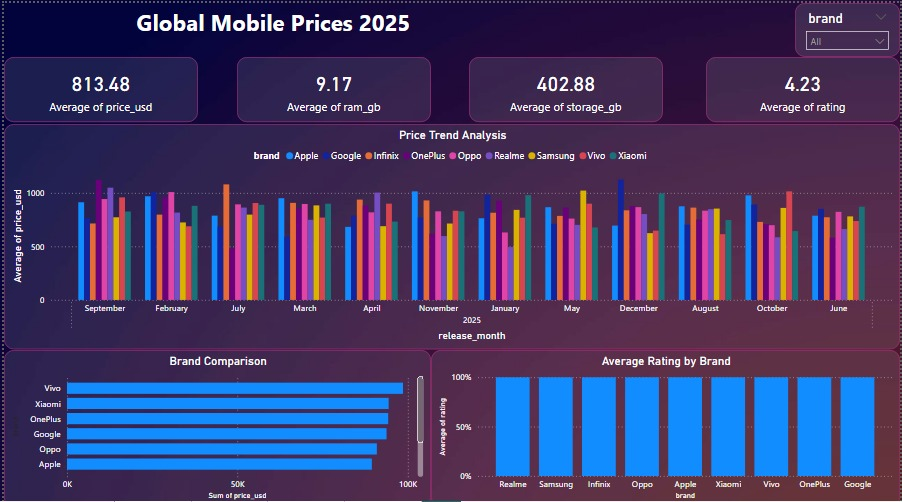

The dashboard page shown, as its layout file describes it:
{"tool":"powerbi","page":{"name":"Page 4","canvas":[1280,720],"ordinal":3},"visuals":[{"type":"card","fields":{"Values":["Avg(Global_Mobile_Prices_2025_Extended.price_usd)"]},"box":[0,76.7,276.7,93.3],"z":0},{"type":"card","fields":{"Values":["Avg(Global_Mobile_Prices_2025_Extended.ram_gb)"]},"box":[333.3,76.7,276.7,93.3],"z":1000},{"type":"card","fields":{"Values":["Avg(Global_Mobile_Prices_2025_Extended.storage_gb)"]},"box":[665,76.7,276.7,93.3],"z":2000},{"type":"card","fields":{"Values":["Avg(Global_Mobile_Prices_2025_Extended.rating)"]},"box":[1003.3,76.7,276.7,93.3],"z":3000},{"type":"textbox","title":"Global Mobile Prices 2025","box":[0,0,770,61.7],"z":4000},{"type":"slicer","fields":{"Values":["Global_Mobile_Prices_2025_Extended.brand"]},"box":[1130,0,150,76.7],"z":5000},{"type":"lineClusteredColumnComboChart","title":"Price Trend Analysis","fields":{"Category":["Global_Mobile_Prices_2025_Extended.year","Global_Mobile_Prices_2025_Extended.release_month"],"Y":["Avg(Global_Mobile_Prices_2025_Extended.price_usd)"],"Series":["Global_Mobile_Prices_2025_Extended.brand"]},"box":[0,173.3,1280,321.7],"z":6000},{"type":"barChart","title":"Brand Comparison","fields":{"Category":["Global_Mobile_Prices_2025_Extended.brand"],"Y":["Sum(Global_Mobile_Prices_2025_Extended.price_usd)"]},"box":[0,495,610,225],"z":7000},{"type":"hundredPercentStackedColumnChart","title":"Average Rating by Brand","fields":{"Category":["Global_Mobile_Prices_2025_Extended.brand"],"Y":["Avg(Global_Mobile_Prices_2025_Extended.rating)"]},"box":[610,495,670,225],"z":8000}]}

Visuals, with their boxes in screenshot pixels (x1, y1, x2, y2), scaled from the page's 1280x720 canvas onto the 902x502 screenshot:
card - Avg(Global_Mobile_Prices_2025_Extended.price_usd): [left=0, top=53, right=195, bottom=119]
card - Avg(Global_Mobile_Prices_2025_Extended.ram_gb): [left=235, top=53, right=430, bottom=119]
card - Avg(Global_Mobile_Prices_2025_Extended.storage_gb): [left=469, top=53, right=664, bottom=119]
card - Avg(Global_Mobile_Prices_2025_Extended.rating): [left=707, top=53, right=901, bottom=119]
"Global Mobile Prices 2025" textbox: [left=0, top=0, right=543, bottom=43]
slicer - Global_Mobile_Prices_2025_Extended.brand: [left=796, top=0, right=901, bottom=53]
"Price Trend Analysis" lineClusteredColumnComboChart: [left=0, top=121, right=901, bottom=345]
"Brand Comparison" barChart: [left=0, top=345, right=430, bottom=501]
"Average Rating by Brand" hundredPercentStackedColumnChart: [left=430, top=345, right=901, bottom=501]
